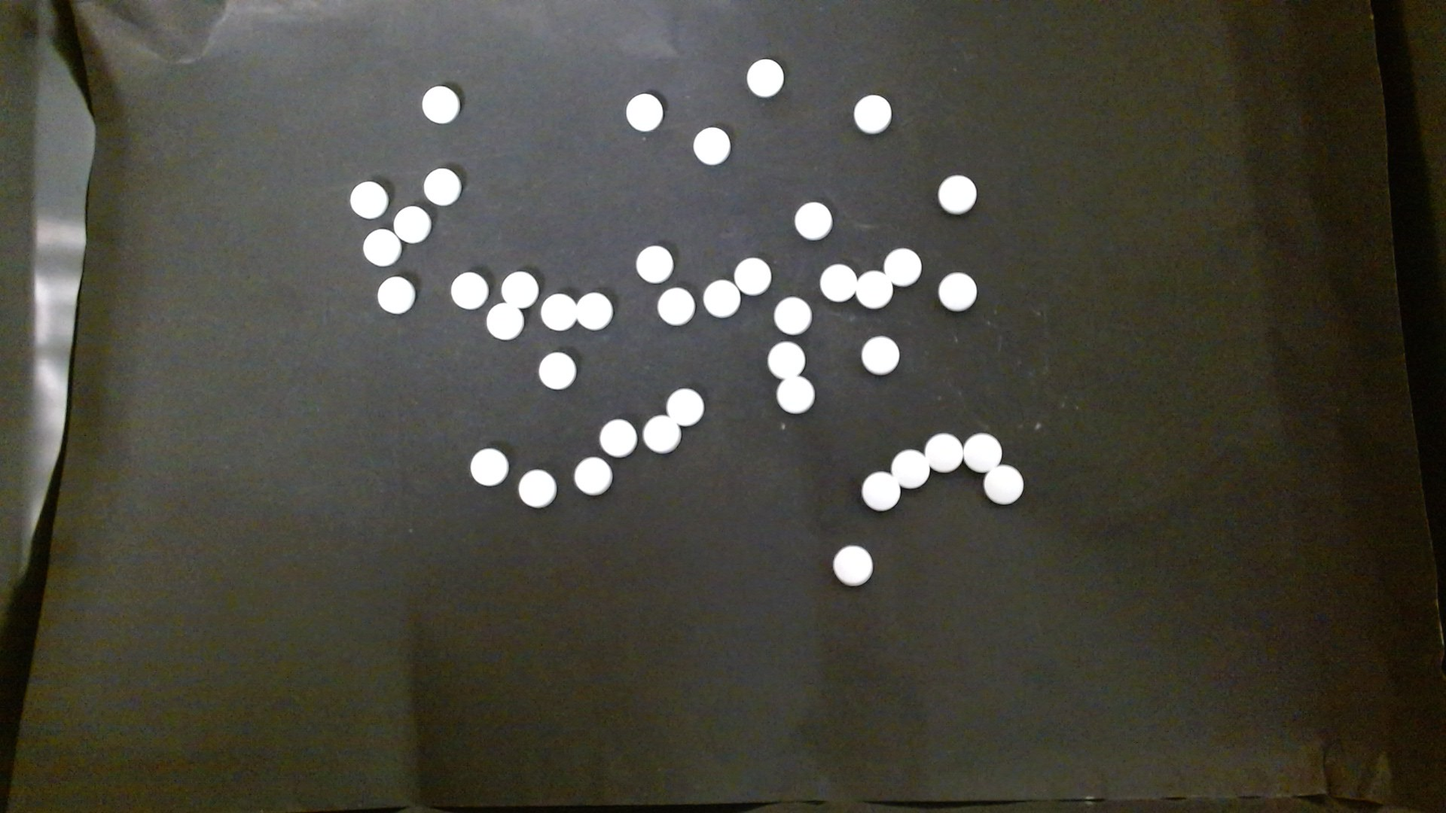Circle: (832, 544, 873, 586), (984, 464, 1024, 505), (861, 470, 900, 511), (962, 433, 1001, 473), (423, 166, 462, 206), (538, 351, 577, 390), (573, 457, 612, 496), (938, 175, 977, 214), (853, 94, 892, 133), (349, 180, 389, 218), (450, 270, 488, 309), (362, 228, 401, 266), (776, 376, 815, 414), (938, 272, 976, 311), (377, 276, 416, 314), (625, 93, 664, 131), (470, 447, 508, 486), (422, 84, 460, 123), (892, 449, 929, 489), (794, 201, 832, 239), (861, 336, 899, 374), (693, 126, 731, 164), (518, 469, 556, 507), (746, 58, 784, 96), (925, 433, 962, 472), (819, 263, 856, 301), (734, 257, 771, 295), (576, 292, 613, 330), (599, 419, 636, 457), (636, 244, 673, 282), (394, 206, 431, 243), (769, 340, 806, 377), (657, 288, 694, 325), (773, 297, 810, 334), (667, 388, 703, 426), (883, 248, 919, 285), (855, 271, 891, 308), (540, 294, 577, 330), (486, 303, 522, 340), (643, 415, 679, 452), (501, 270, 537, 306), (703, 279, 738, 316)
